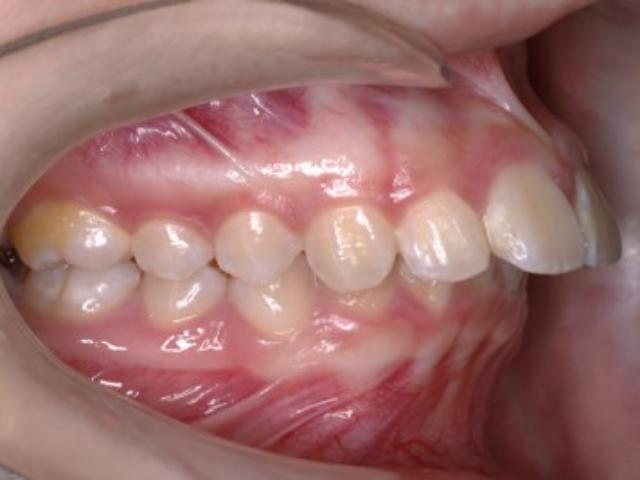canine class II 1/4: (227, 198, 405, 340)
molar class II 1/2: (9, 204, 143, 329)
